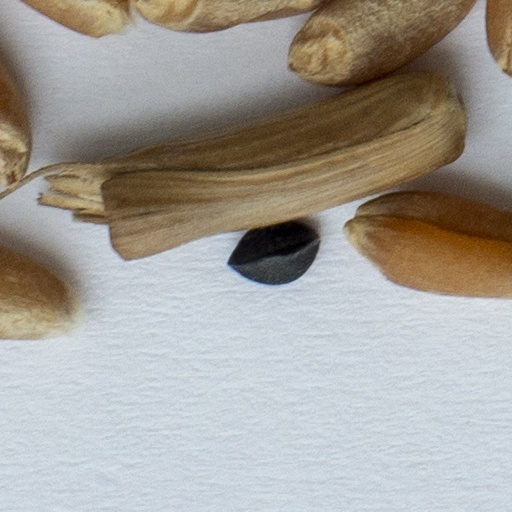Fallopia-Convolvulus-poly: (228, 221, 317, 284)
